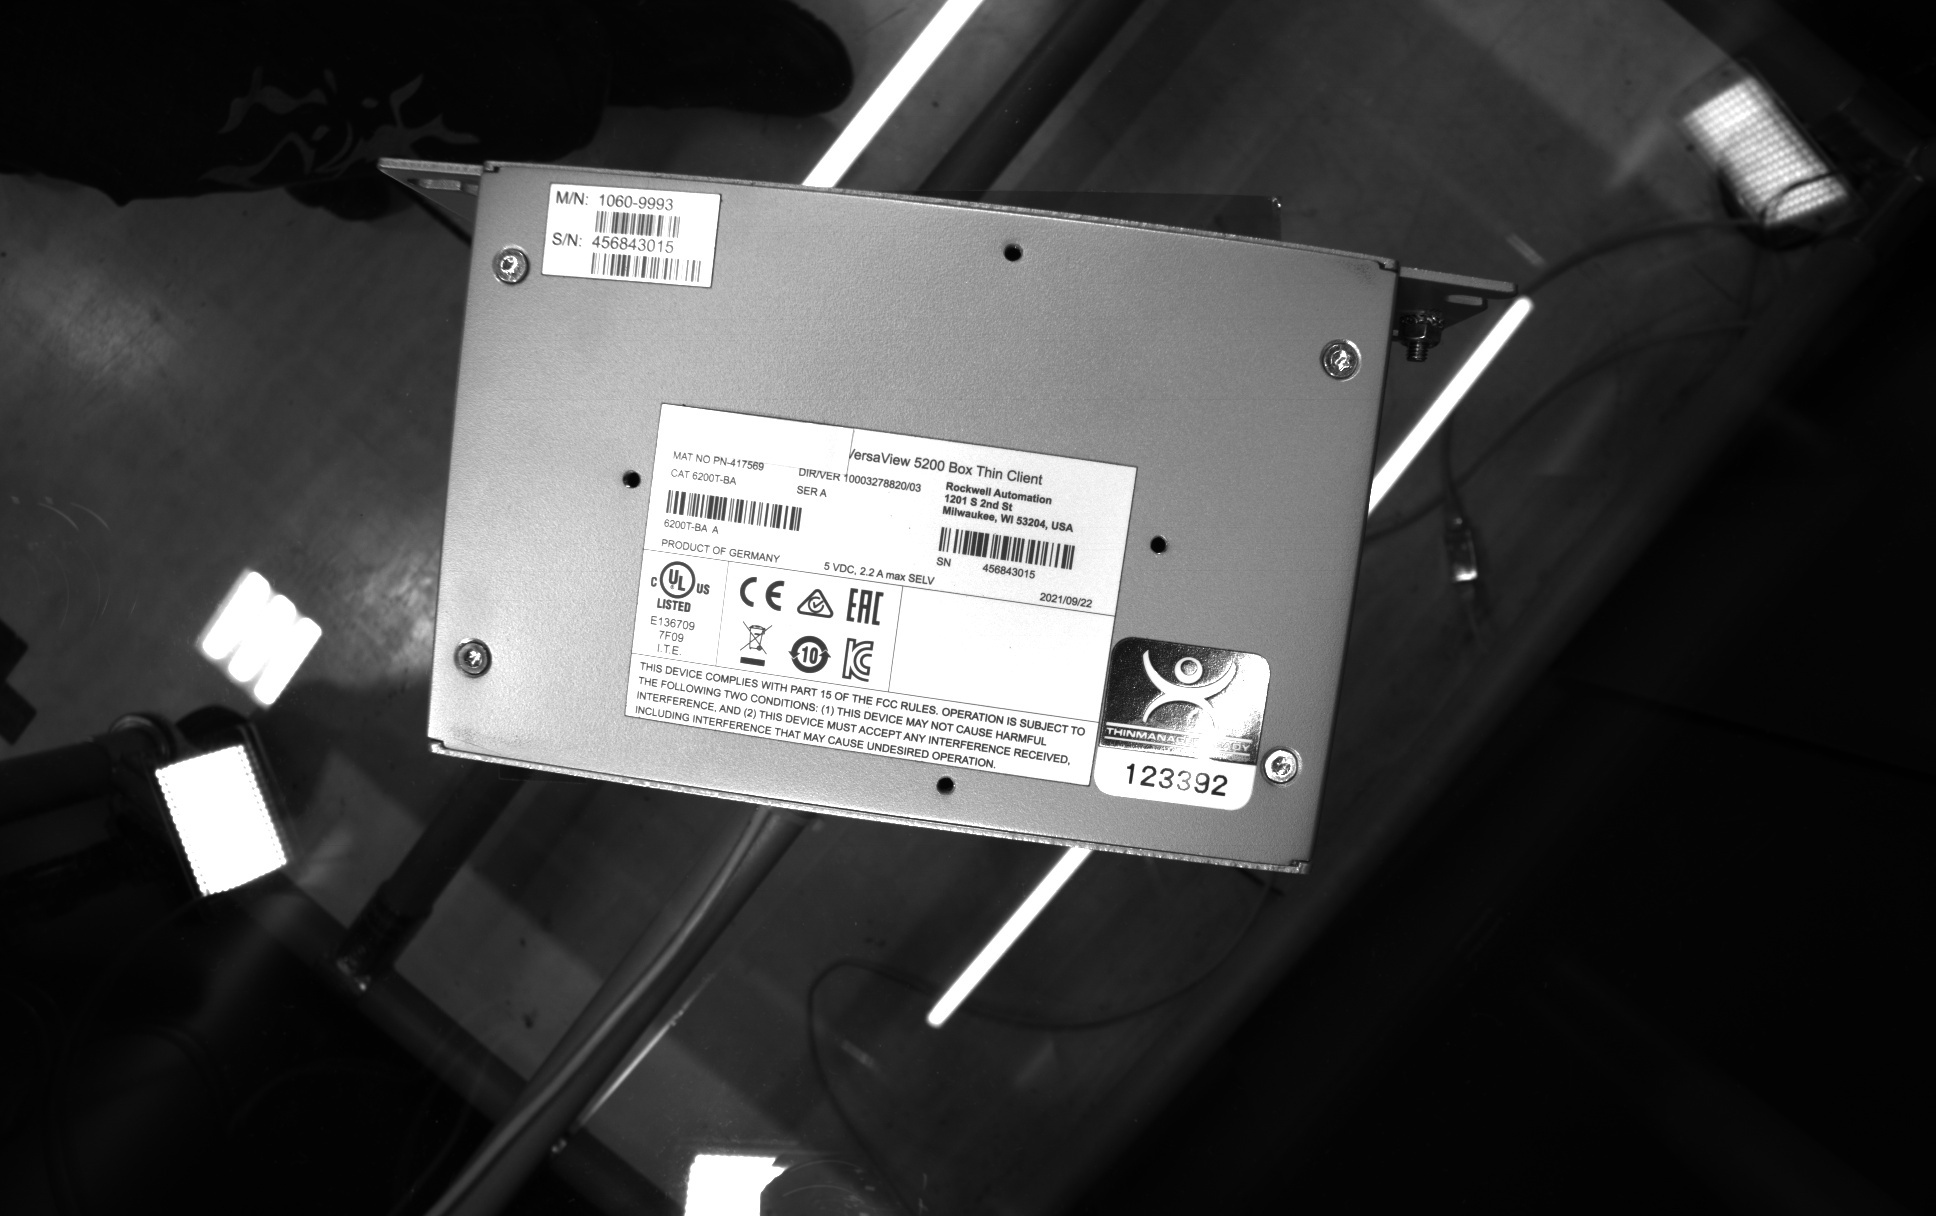Barcode: (661, 483, 805, 539), (934, 521, 1079, 577), (584, 247, 710, 289), (587, 206, 684, 242)
CamTop: (412, 141, 1408, 890)
Label_Seriennummer: (616, 392, 1152, 794)
Loch_Montage: (609, 451, 649, 497), (923, 769, 967, 808), (1142, 521, 1181, 563), (990, 233, 1030, 270)
Schraube: (1311, 332, 1369, 385), (447, 633, 497, 689), (1258, 738, 1308, 793), (486, 242, 537, 296)
